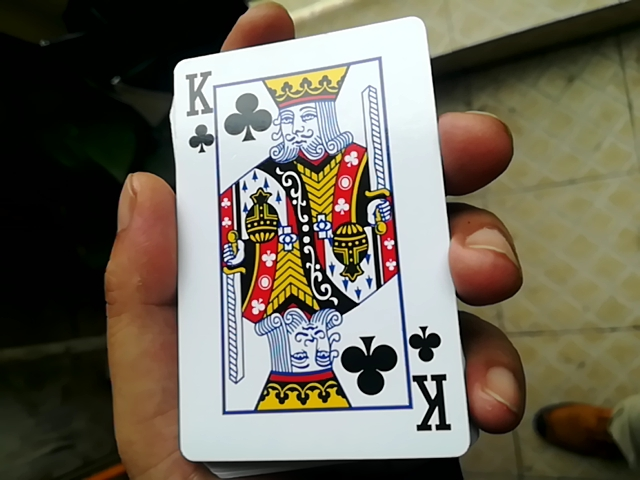mh k: (154, 21, 464, 455)
